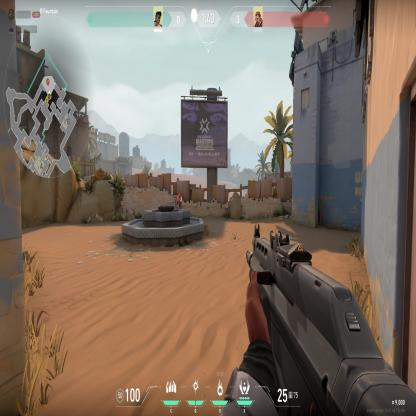enemy: (176, 191, 183, 210)
